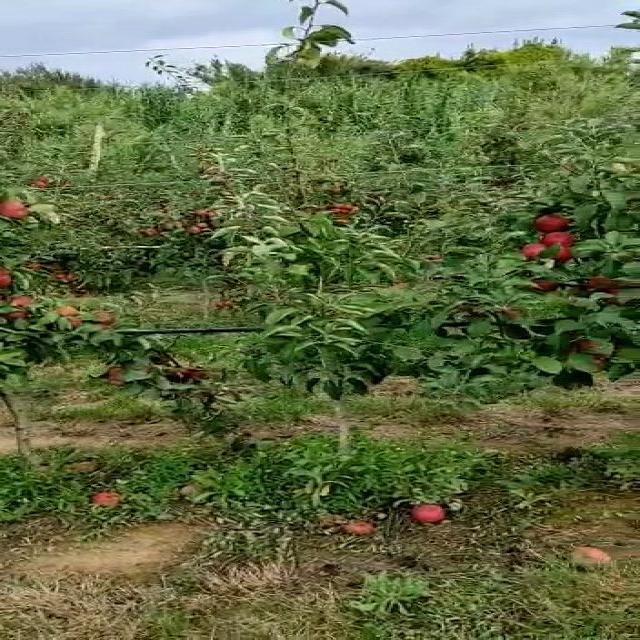100-_ripeness: (531, 210, 564, 233), (2, 298, 33, 319), (2, 195, 25, 216), (551, 246, 574, 263), (526, 241, 544, 261)
